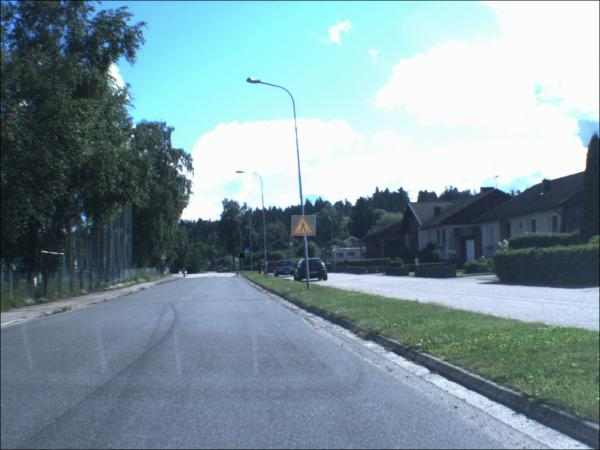NO_PARKING: (241, 254, 246, 260)
PEDESTRIAN_CROSSING: (245, 249, 253, 256), (162, 255, 168, 261)
WARNING: (293, 216, 319, 238)
